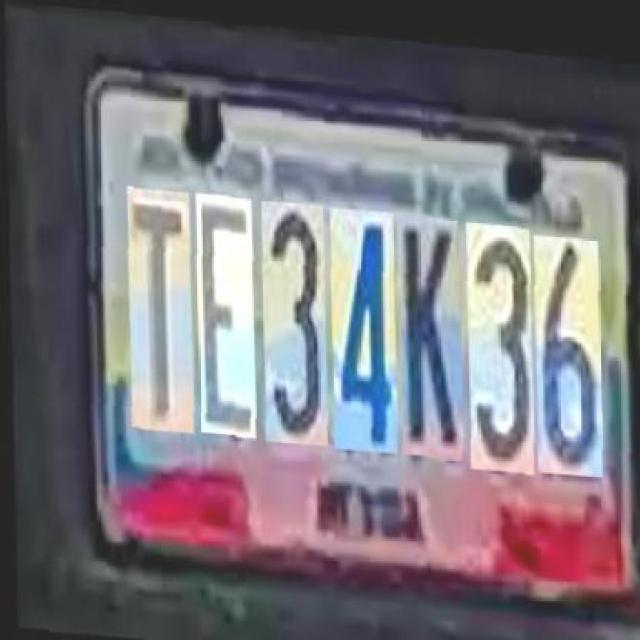3: (462, 207, 532, 458), (258, 192, 325, 437)
4: (326, 197, 396, 441)
6: (529, 217, 600, 458)
e: (192, 188, 254, 430)
k: (394, 202, 460, 446)
t: (124, 184, 191, 428)
